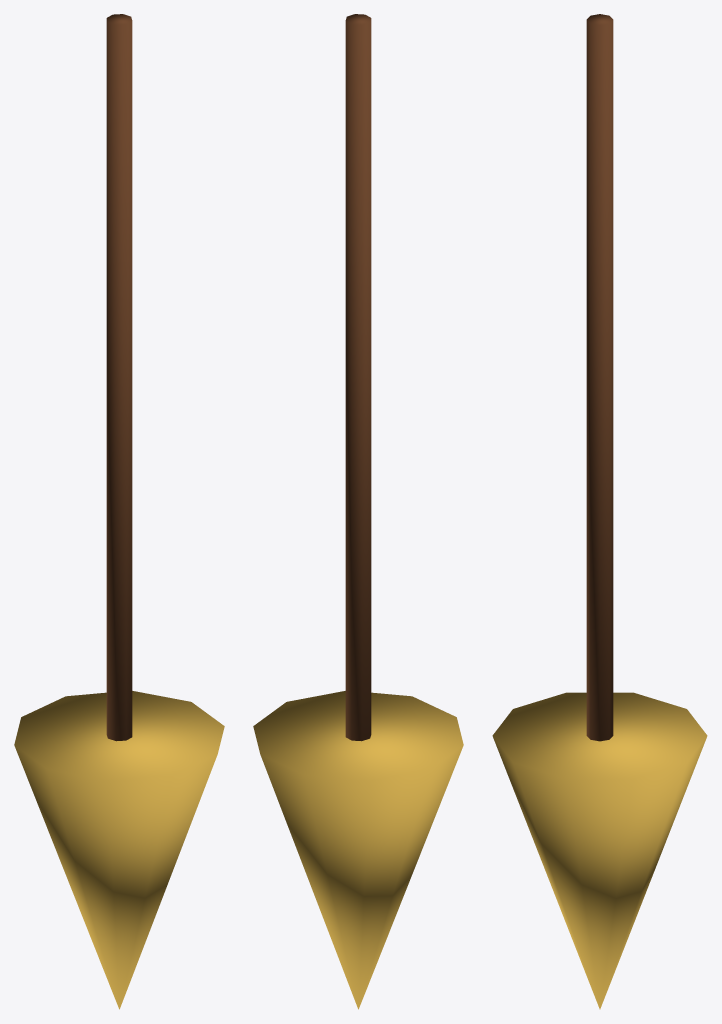
The model's file is broom.glb.
3 views of the same model, side by side, from view 1: azimuth 30°, elevation 25°; view 2: azimuth 150°, elevation 25°; view 3: azimuth 270°, elevation 25° (orthographic).
Visible parts, largest first — view 1: broom; view 2: broom; view 3: broom.
Part boxes in pixels (bbox=[...]): broom: bbox=[14, 14, 224, 1009]; broom: bbox=[253, 14, 463, 1009]; broom: bbox=[492, 14, 707, 1009].
Size of the model in its own units: 0.3043 by 1.62 by 0.32.
